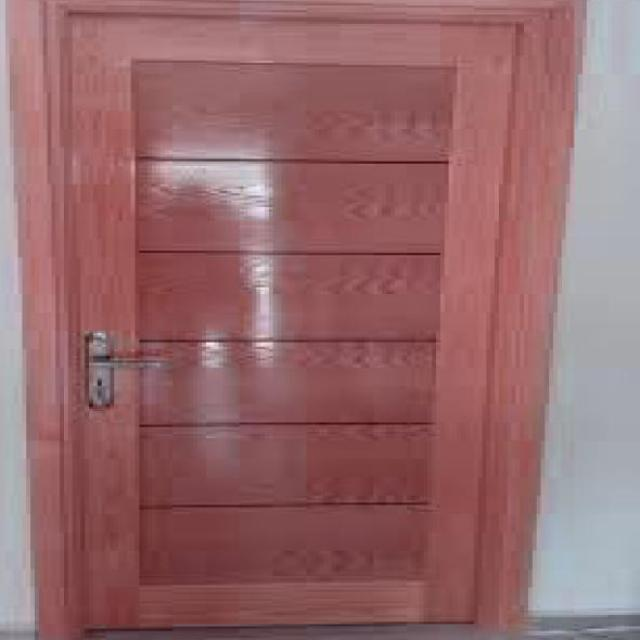door: (9, 0, 578, 637)
